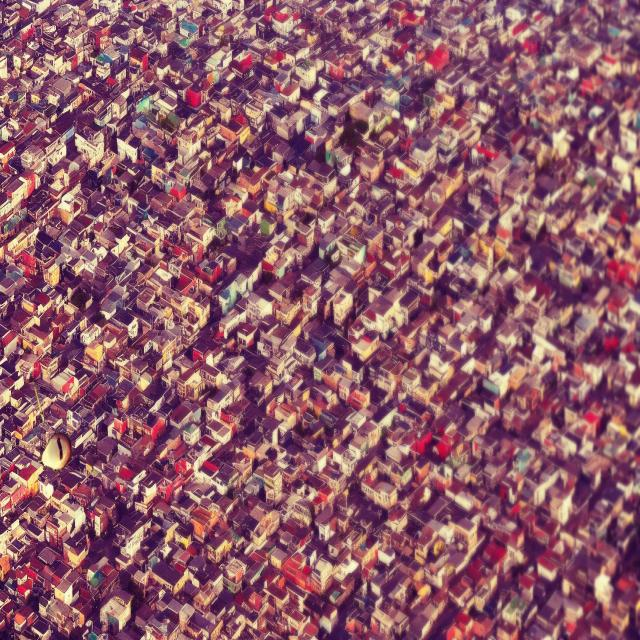airplane: (34, 388, 72, 469)
